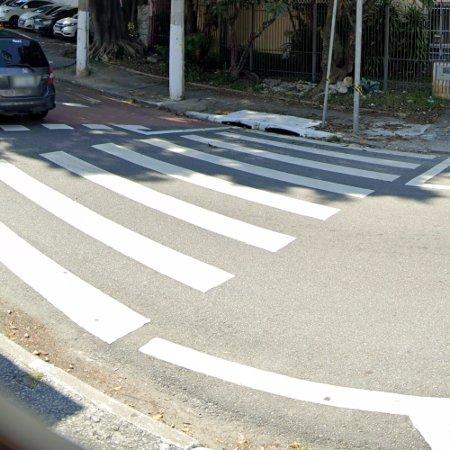crosswalks: (0, 129, 440, 348)
